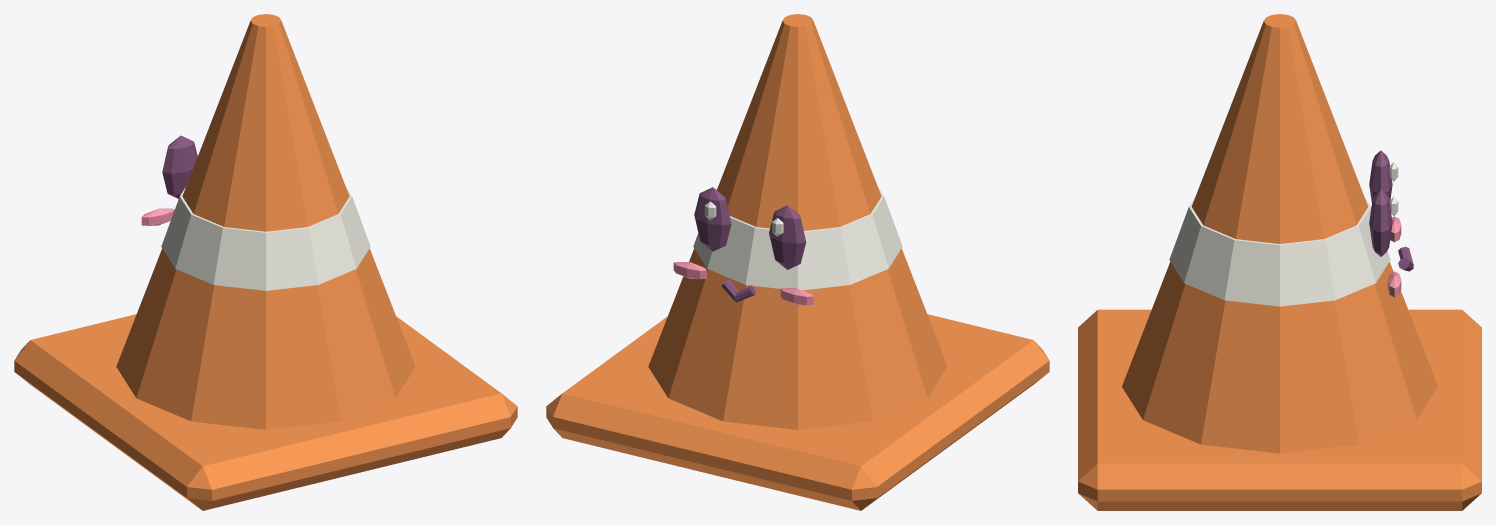
3 renders of one model, left to right at view 1: azimuth 30°, elevation 25°; view 2: azimuth 150°, elevation 25°; view 3: azimuth 270°, elevation 25°, orthographic. The views are drawn at different scales.
Parts seen in each view (by area): view 1: cone; view 2: cone; view 3: cone.
Boxes of the visible parts, x1,y1,x2,y2 form: cone: (14,14,517,510); cone: (546,14,1049,510); cone: (1078,14,1481,510).
Bounding box in the file's own units: 0.62 × 0.7 × 0.62.
